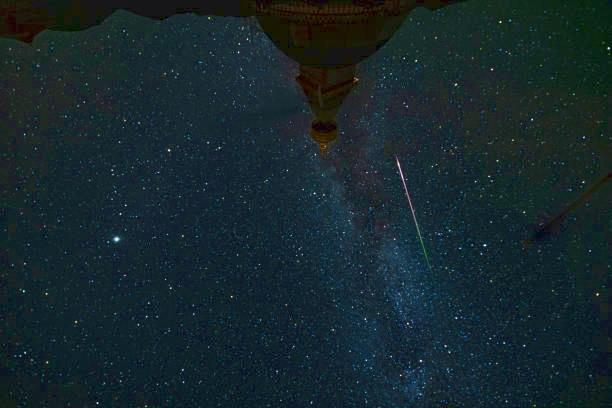meteorite: (381, 149, 445, 281)
